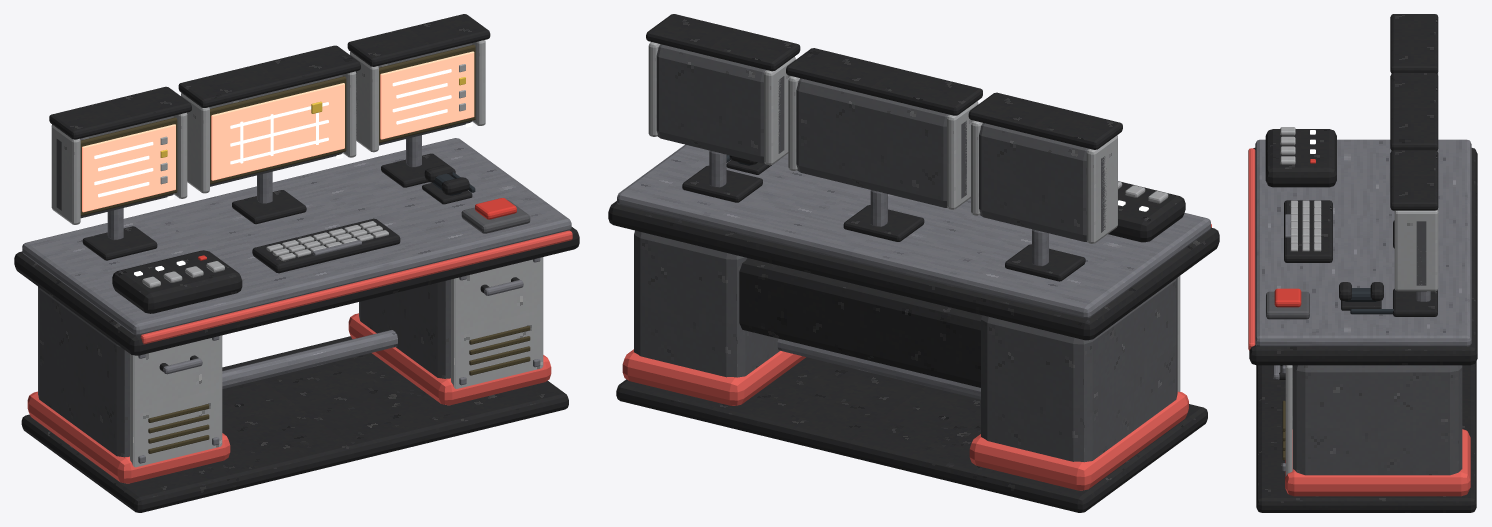
The model's file is decor_sec_dispatch_console.glb.
The picture shows the model from 3 angles, left to right: view 1: azimuth 30°, elevation 25°; view 2: azimuth 150°, elevation 25°; view 3: azimuth 270°, elevation 25°; orthographic projection. The views are drawn at different scales.
Visible parts, largest first — view 1: DEC_SecDispatchConsole__Worktop, DEC_SecDispatchConsole__Floor_Skid, DEC_SecDispatchConsole__Pedestal_0, DEC_SecDispatchConsole__Pedestal_Face_1, DEC_SecDispatchConsole__Pedestal_Face_0, DEC_SecDispatchConsole__Screen_Glass_1, DEC_SecDispatchConsole__Worktop_Edge, DEC_SecDispatchConsole__Pedestal_1, DEC_SecDispatchConsole__Screen_Glass_2, DEC_SecDispatchConsole__Screen_Glass_0, DEC_SecDispatchConsole__Screen_Visor_1, DEC_SecDispatchConsole__Radio_Deck (+23 smaller); view 2: DEC_SecDispatchConsole__Worktop, DEC_SecDispatchConsole__Floor_Skid, DEC_SecDispatchConsole__Pedestal_0, DEC_SecDispatchConsole__Rear_Cable_Bridge, DEC_SecDispatchConsole__Screen_Chassis_1, DEC_SecDispatchConsole__Pedestal_1, DEC_SecDispatchConsole__Worktop_Edge, DEC_SecDispatchConsole__Screen_Chassis_2, DEC_SecDispatchConsole__Screen_Chassis_0, DEC_SecDispatchConsole__Screen_Visor_1, DEC_SecDispatchConsole__Foot_Armor_0, DEC_SecDispatchConsole__Foot_Armor_1 (+13 smaller); view 3: DEC_SecDispatchConsole__Worktop, DEC_SecDispatchConsole__Pedestal_1, DEC_SecDispatchConsole__Floor_Skid, DEC_SecDispatchConsole__Worktop_Edge, DEC_SecDispatchConsole__Foot_Armor_1, DEC_SecDispatchConsole__Screen_Visor_1, DEC_SecDispatchConsole__Radio_Deck, DEC_SecDispatchConsole__Screen_Hood_Side_2_1, DEC_SecDispatchConsole__Screen_Visor_2, DEC_SecDispatchConsole__Screen_Visor_0, DEC_SecDispatchConsole__Dispatch_Keyboard_Tray, DEC_SecDispatchConsole__Front_Impact_Strip (+7 smaller).
Boxes of the visible parts, x1,y1,x2,y2 form: DEC_SecDispatchConsole__Worktop: (22, 138, 571, 335); DEC_SecDispatchConsole__Floor_Skid: (21, 336, 568, 512); DEC_SecDispatchConsole__Pedestal_0: (38, 286, 129, 457); DEC_SecDispatchConsole__Pedestal_Face_1: (451, 257, 543, 388); DEC_SecDispatchConsole__Pedestal_Face_0: (130, 335, 222, 467); DEC_SecDispatchConsole__Screen_Glass_1: (211, 83, 344, 180); DEC_SecDispatchConsole__Worktop_Edge: (14, 227, 579, 355); DEC_SecDispatchConsole__Pedestal_1: (359, 279, 450, 378); DEC_SecDispatchConsole__Screen_Glass_2: (380, 51, 474, 139); DEC_SecDispatchConsole__Screen_Glass_0: (82, 124, 175, 212); DEC_SecDispatchConsole__Screen_Visor_1: (178, 45, 360, 107); DEC_SecDispatchConsole__Radio_Deck: (112, 250, 242, 313); DEC_SecDispatchConsole__Worktop: (617, 144, 1210, 318); DEC_SecDispatchConsole__Floor_Skid: (616, 357, 1207, 512); DEC_SecDispatchConsole__Pedestal_0: (981, 277, 1177, 462); DEC_SecDispatchConsole__Rear_Cable_Bridge: (739, 258, 981, 387); DEC_SecDispatchConsole__Screen_Chassis_1: (796, 78, 966, 207); DEC_SecDispatchConsole__Pedestal_1: (634, 230, 779, 377); DEC_SecDispatchConsole__Worktop_Edge: (608, 201, 1219, 340); DEC_SecDispatchConsole__Screen_Chassis_2: (656, 44, 784, 163); DEC_SecDispatchConsole__Screen_Chassis_0: (979, 123, 1106, 241); DEC_SecDispatchConsole__Screen_Visor_1: (786, 48, 982, 115); DEC_SecDispatchConsole__Foot_Armor_0: (969, 391, 1188, 490); DEC_SecDispatchConsole__Foot_Armor_1: (622, 349, 805, 405); DEC_SecDispatchConsole__Worktop: (1255, 139, 1471, 346); DEC_SecDispatchConsole__Pedestal_1: (1293, 365, 1462, 475); DEC_SecDispatchConsole__Floor_Skid: (1256, 361, 1476, 512); DEC_SecDispatchConsole__Worktop_Edge: (1249, 148, 1477, 365); DEC_SecDispatchConsole__Foot_Armor_1: (1285, 429, 1470, 496); DEC_SecDispatchConsole__Screen_Visor_1: (1390, 73, 1438, 150); DEC_SecDispatchConsole__Radio_Deck: (1265, 129, 1336, 187); DEC_SecDispatchConsole__Screen_Hood_Side_2_1: (1394, 210, 1438, 291); DEC_SecDispatchConsole__Screen_Visor_2: (1390, 150, 1438, 210); DEC_SecDispatchConsole__Screen_Visor_0: (1390, 14, 1438, 73); DEC_SecDispatchConsole__Dispatch_Keyboard_Tray: (1284, 200, 1332, 262); DEC_SecDispatchConsole__Front_Impact_Strip: (1248, 148, 1255, 350).
Bounding box in the file's own units: 2.38 × 1.67 × 1.12.
12 materials, 4 textured.
